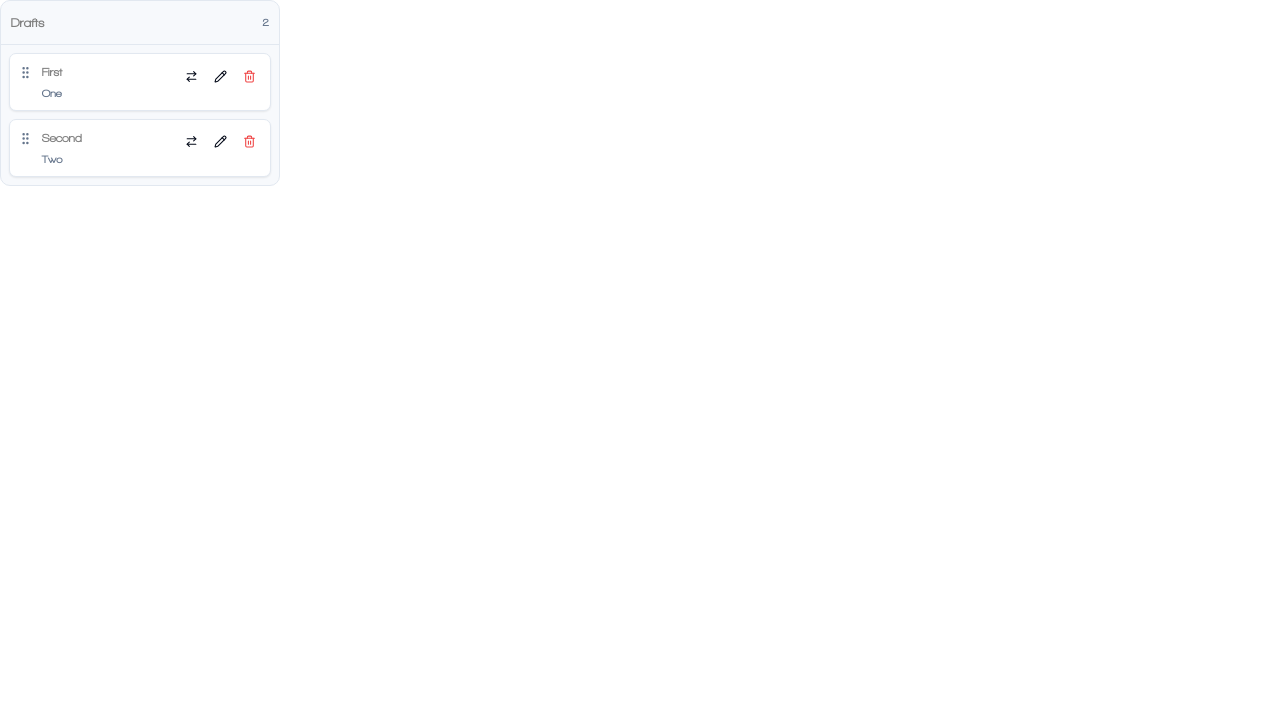
Test: composed swimlanes › uses domain wording in the shared card editor
Click the button named "Edit First" at coordinates (220, 76), box [207,63,233,89]
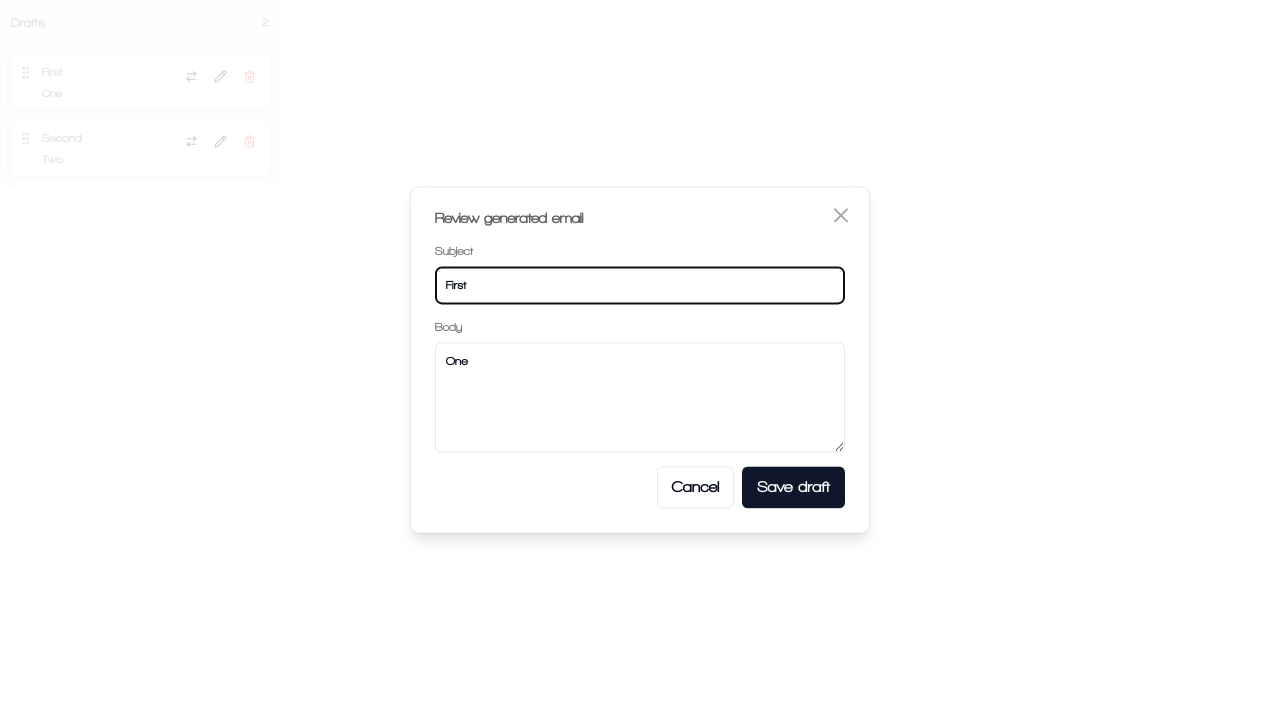
Check: the heading "Review generated email" is shown, box [435,210,583,226]
Check: the field labelled "Subject" is shown, box [435,267,845,305]
Check: the text box labelled "Body" is shown, box [435,343,845,453]
